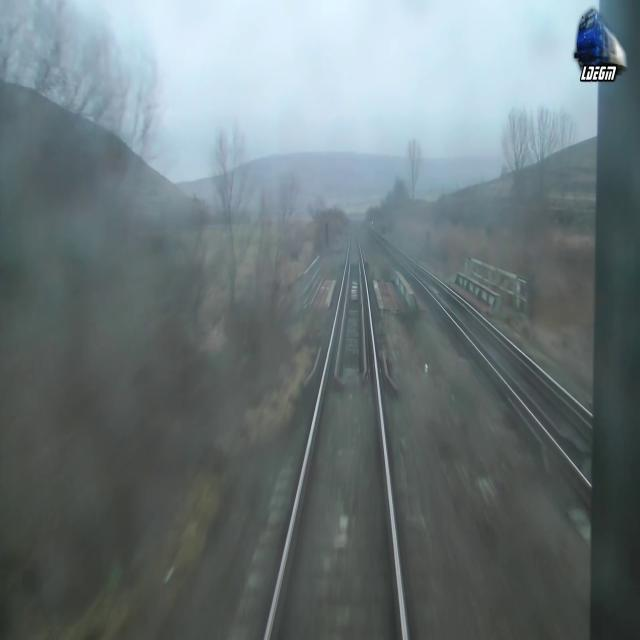rail-track: (364, 226, 640, 542), (268, 226, 403, 639)
